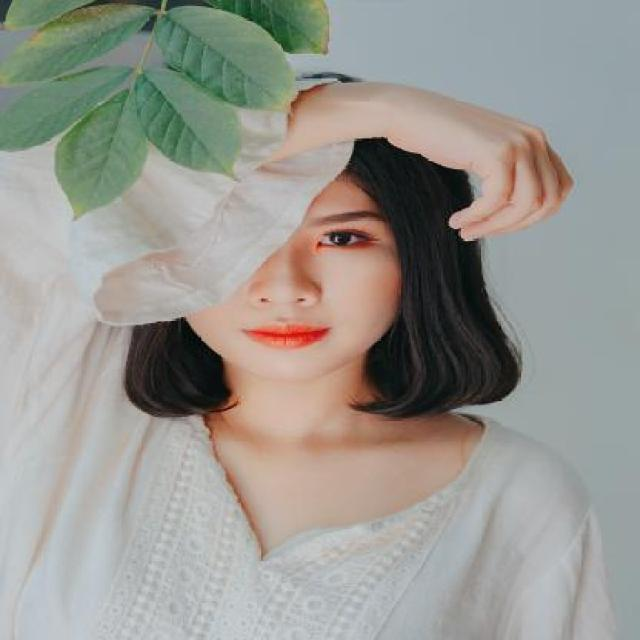closed-mouth: (236, 321, 333, 352)
